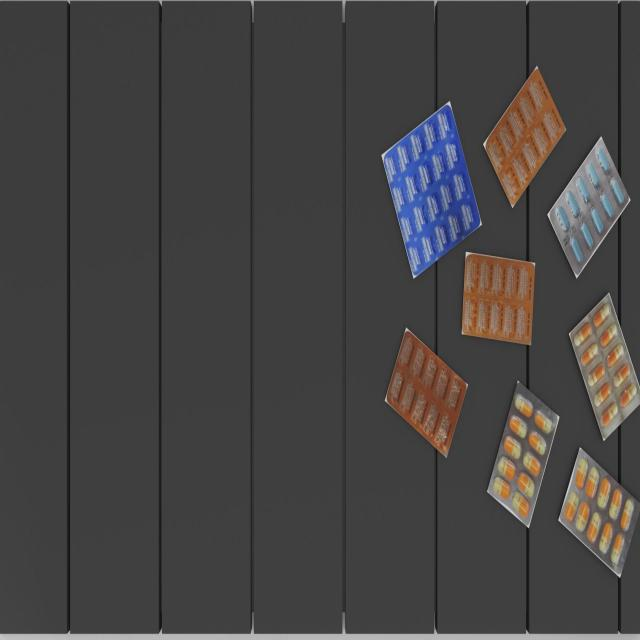blister: (374, 95, 484, 283), (544, 129, 632, 283), (480, 372, 560, 533), (479, 66, 567, 212), (564, 289, 640, 452), (378, 325, 469, 460), (553, 443, 639, 585), (460, 248, 538, 349)
